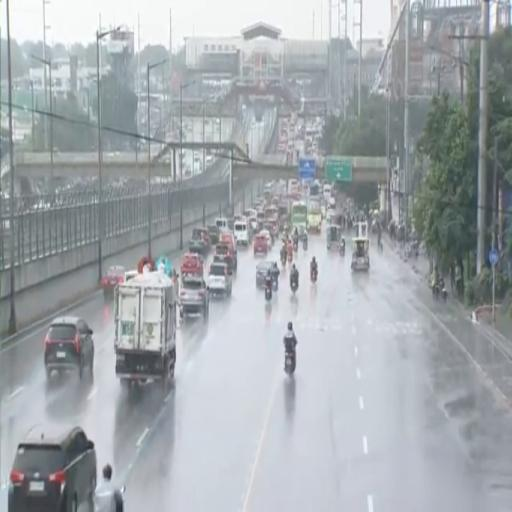bus: (291, 202, 308, 230)
car: (8, 425, 97, 511), (44, 316, 94, 378), (180, 275, 209, 317), (207, 262, 232, 295), (100, 266, 125, 298), (214, 244, 236, 271), (189, 229, 211, 255), (255, 260, 274, 288), (180, 253, 203, 276), (234, 219, 250, 246), (220, 231, 236, 251), (254, 234, 268, 255), (259, 230, 272, 249), (207, 226, 219, 245), (248, 216, 258, 234), (125, 270, 139, 282), (257, 211, 264, 229)
motorcycle: (432, 279, 447, 301), (284, 349, 296, 375), (265, 284, 272, 300), (310, 269, 317, 284), (291, 279, 298, 294), (281, 252, 287, 266), (273, 276, 278, 292), (340, 244, 345, 257), (303, 238, 308, 250), (288, 251, 293, 263), (293, 239, 297, 252)
truck: (114, 270, 178, 386), (308, 198, 322, 232)
